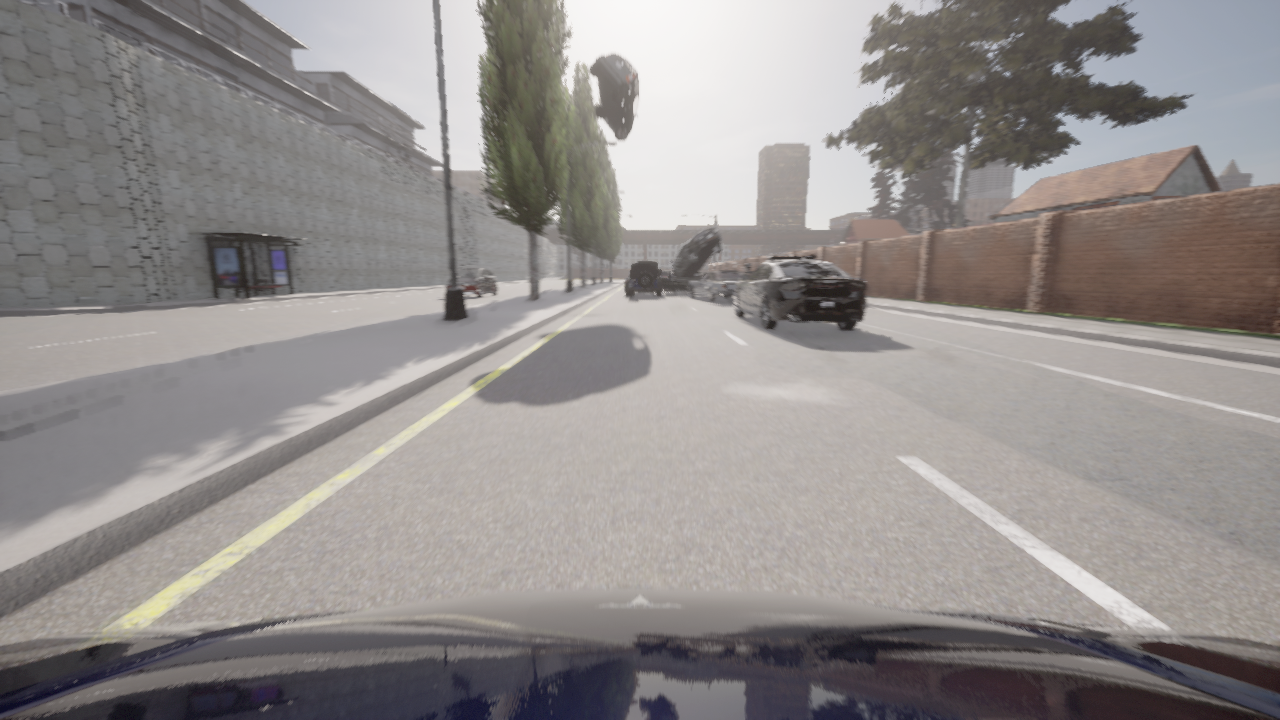cyclist: (0, 588, 1279, 719), (735, 255, 865, 330), (589, 52, 639, 142), (670, 227, 721, 278), (688, 271, 746, 301), (626, 272, 698, 294), (445, 268, 498, 297), (625, 261, 662, 296), (663, 270, 671, 271)
